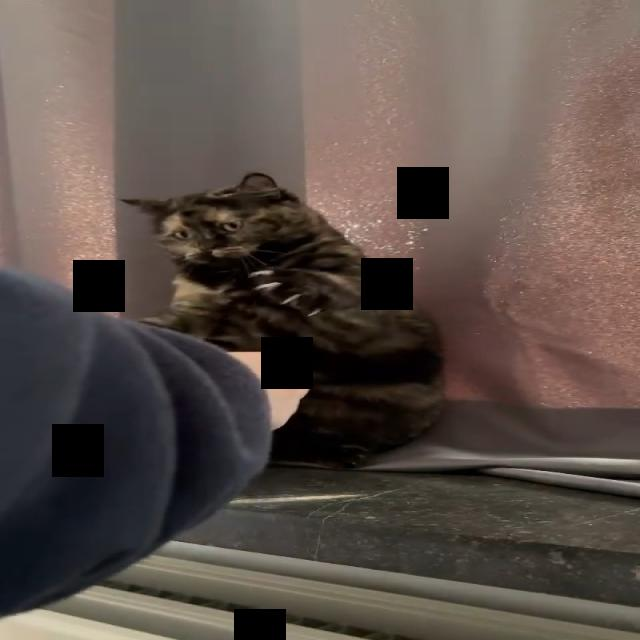authorized: (119, 172, 448, 469)
